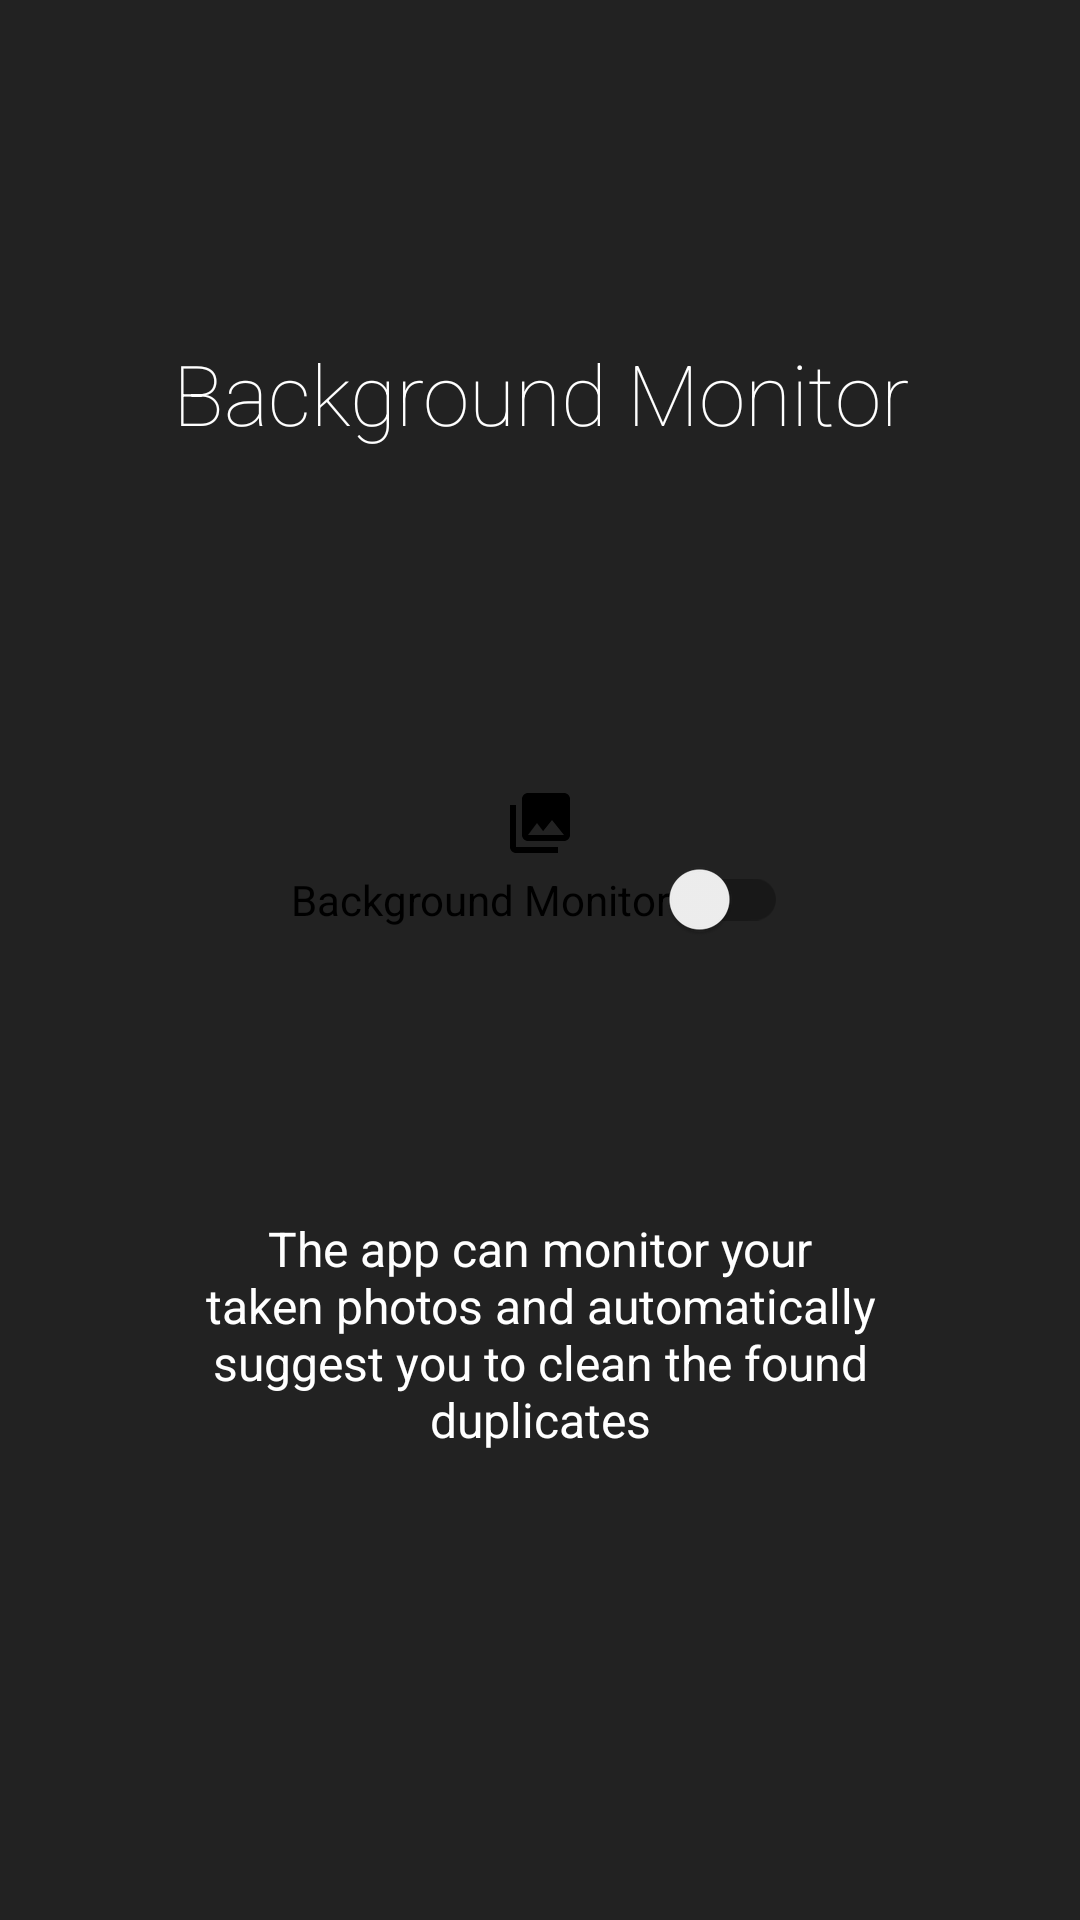

Icon bounding boxes for this 1080px x 1920px phone screenshot, format detection(x1, y1, x2, y2):
gallery: detection(510, 793, 570, 853)
